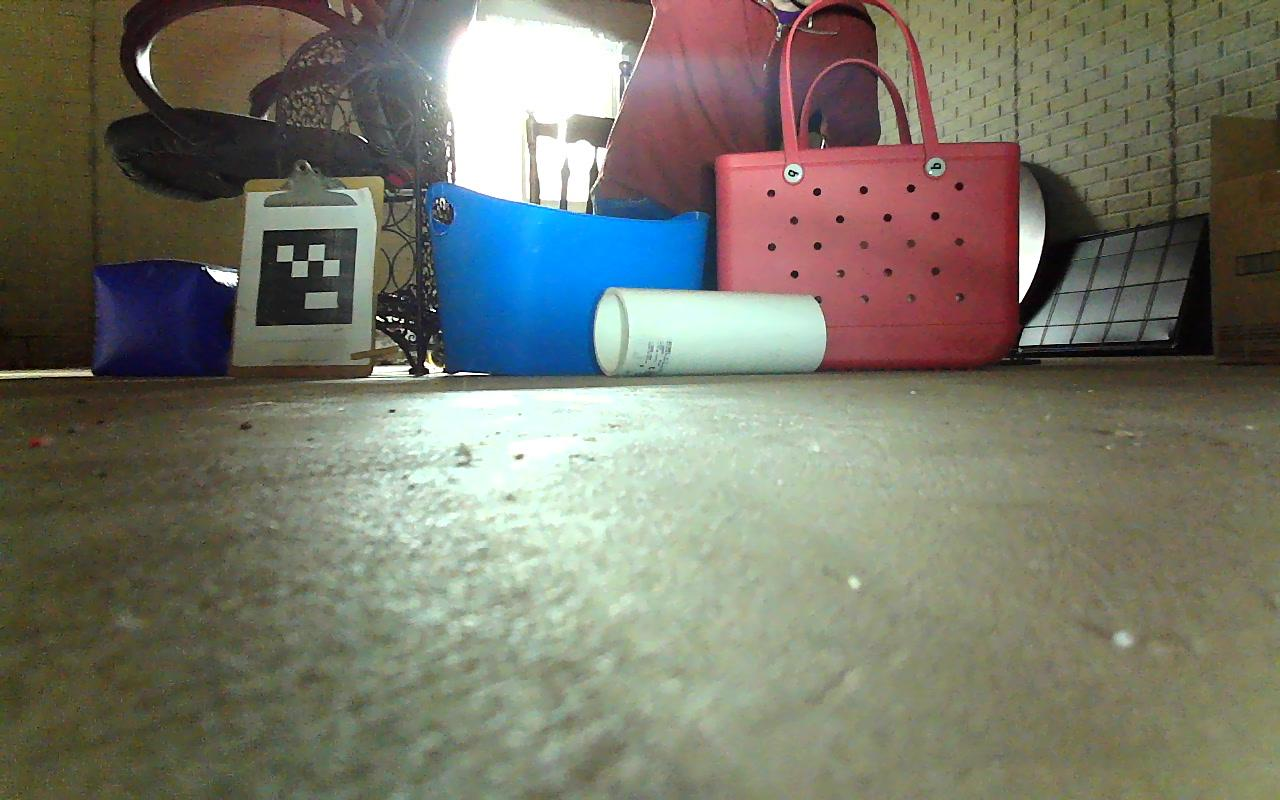coral: (594, 287, 828, 376)
